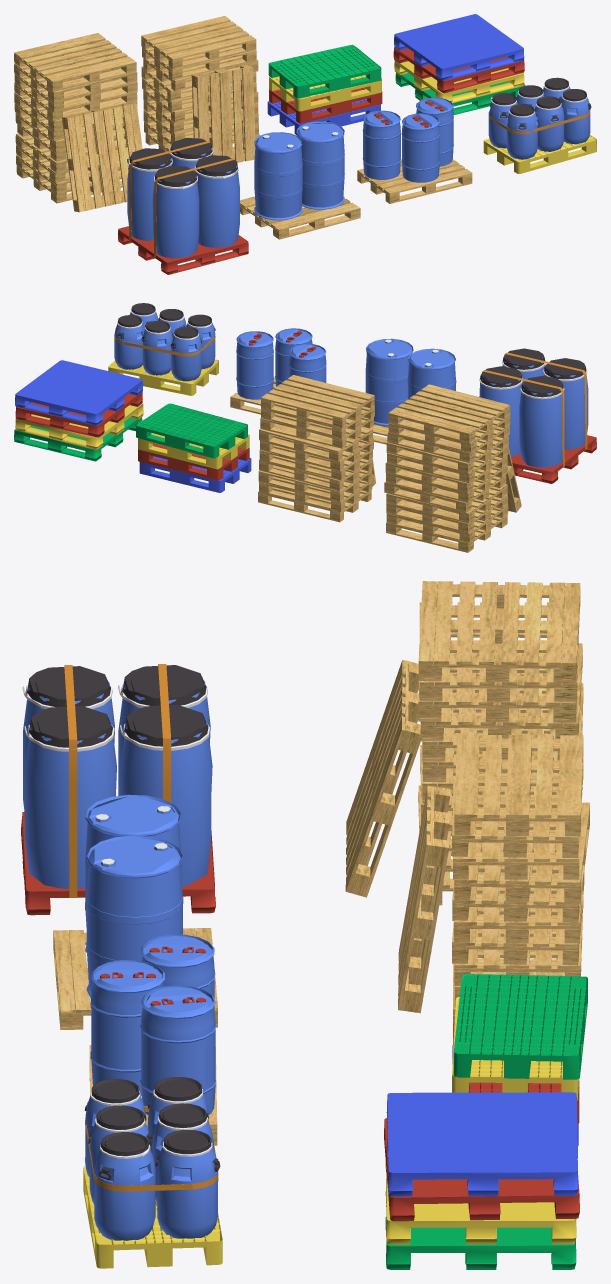
The model's file is pallets_and_plastic_barrels.glb.
The picture shows the model from 3 angles, top to bottom: view 1: azimuth 30°, elevation 25°; view 2: azimuth 150°, elevation 25°; view 3: azimuth 270°, elevation 25°; orthographic projection. The views are drawn at different scales.
Visible parts, largest first — view 1: Object_15, Object_2, Object_3; view 2: Object_15, Object_2, Object_3; view 3: Object_2, Object_15, Object_3.
Part boxes in pixels (x1,y1,x2,y2): Object_15: (14,16,472,239); Object_2: (118,14,596,274); Object_3: (127,121,344,258); Object_15: (230,375,521,552); Object_2: (14,303,596,492); Object_3: (365,338,588,467); Object_2: (21,664,587,1269); Object_15: (53,581,589,1145); Object_3: (22,665,212,997).
Bounding box in the file's own units: 6.71 × 1.7 × 3.61.
Materials: 3 (3 with a texture image).
